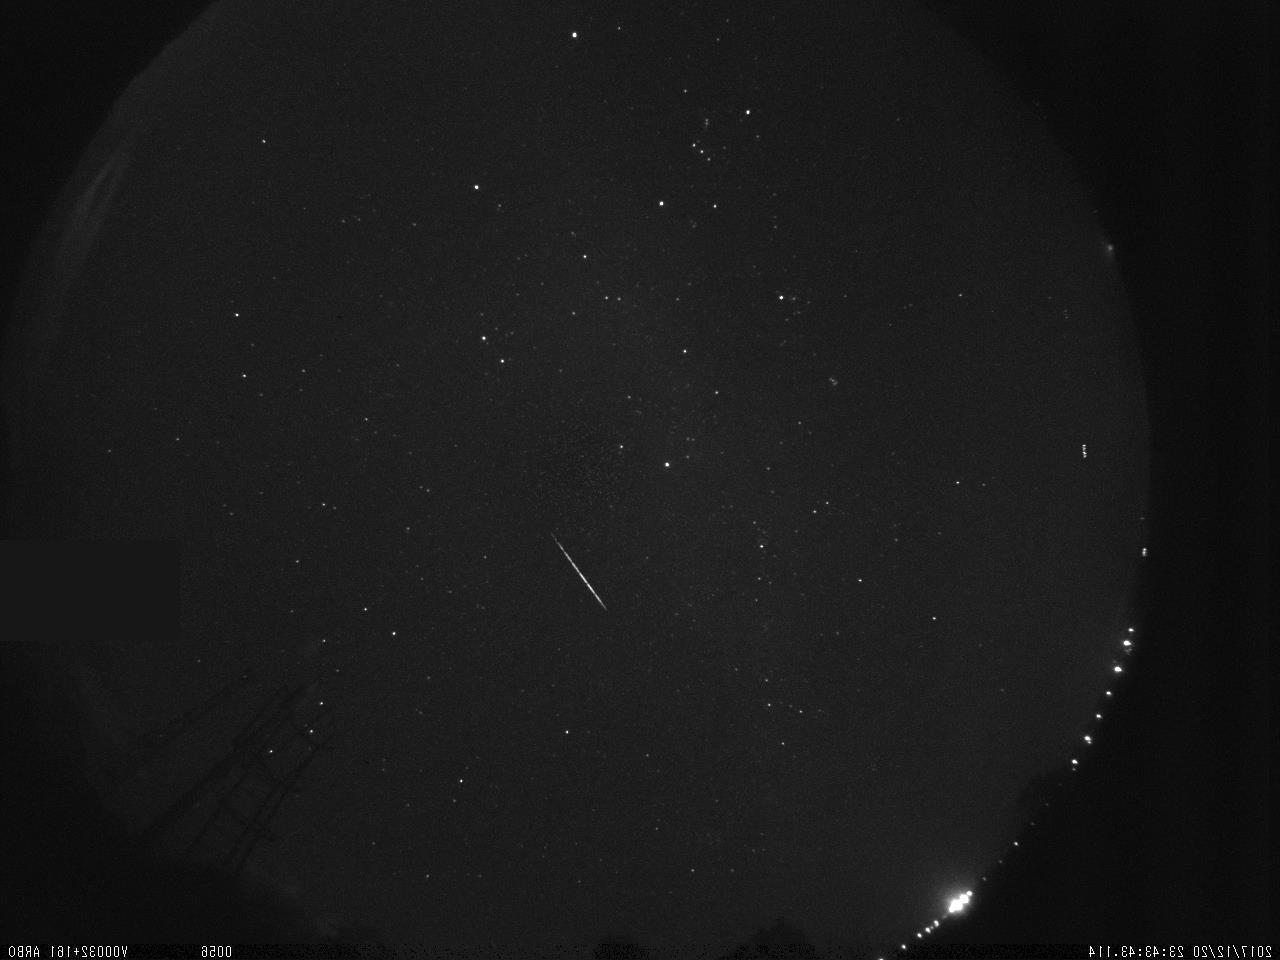meteor: (545, 523, 631, 628)
